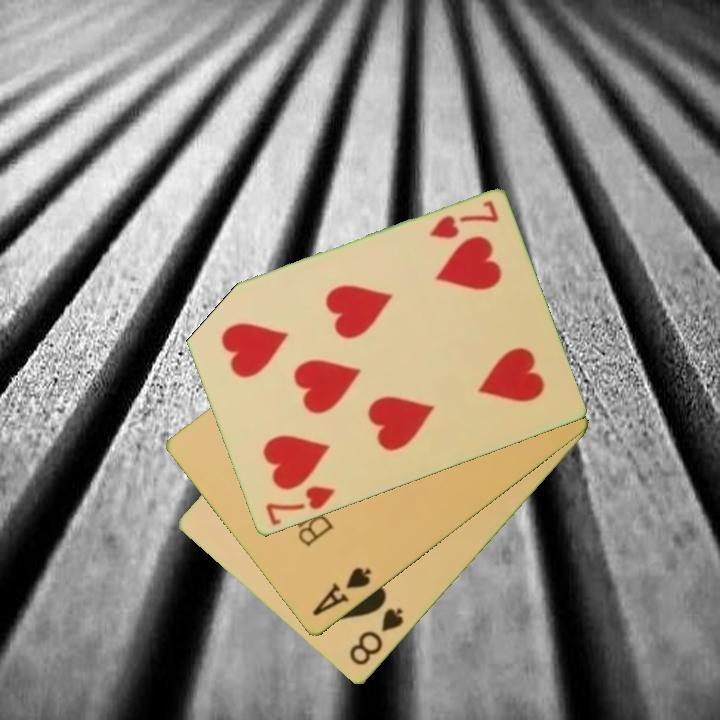7h: (261, 482, 338, 529), (425, 197, 502, 243)
8s: (345, 605, 407, 670)
As: (308, 564, 375, 620)
